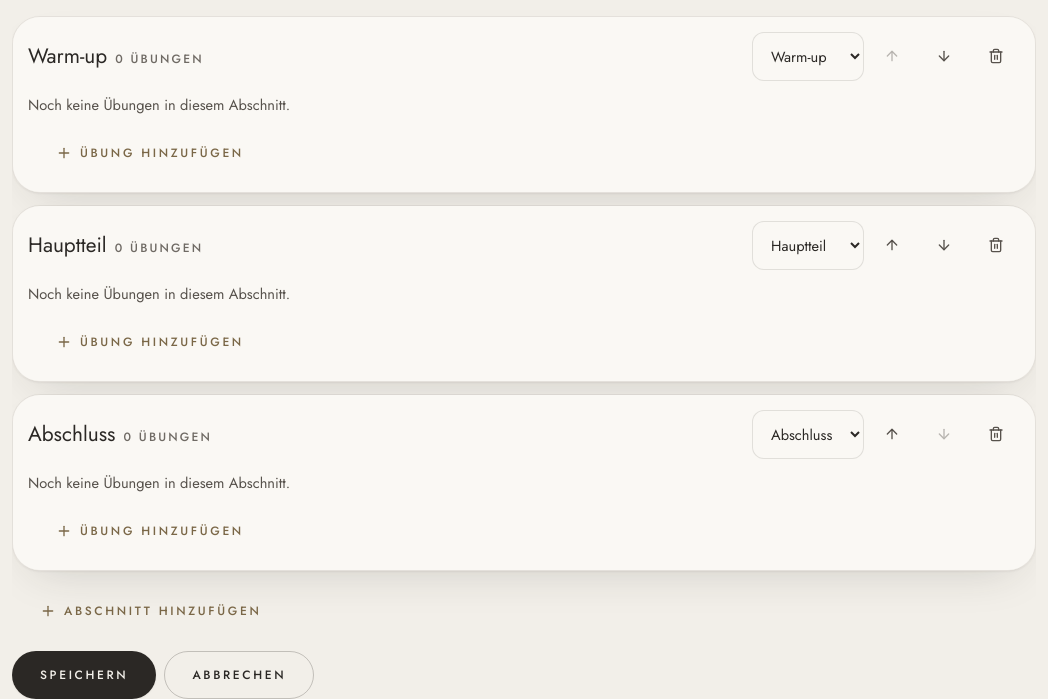
Test: WorkoutEditor — fields per execution type › blocks an invalid template on the client with the shared contract rules
This screenshot has width=1048, height=699.
(page scrolled)
Step 1. Click the button "Speichern" → {"x": 84, "y": 675}, box 12,651 -> 156,698
(page scrolled)
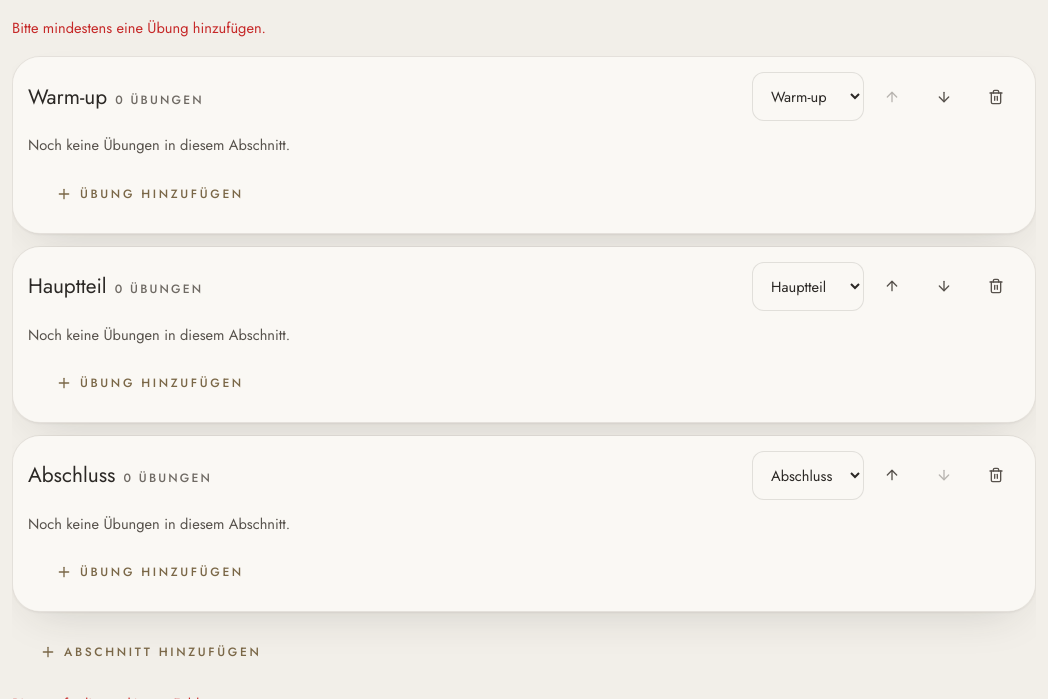
Check: the message "Bitte mindestens eine Übung hinzufügen." is shown, box 12,17 -> 266,38
